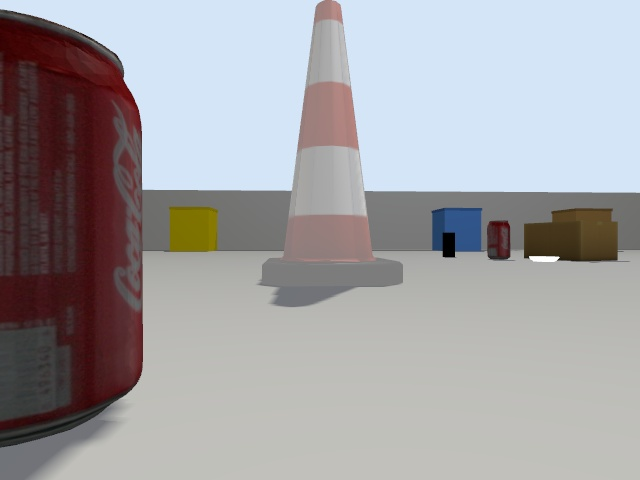bol: (530, 256, 559, 262)
bouteille_verre: (443, 232, 454, 257)
canette: (0, 10, 142, 446), (488, 222, 509, 257)
carton: (524, 209, 617, 260)
cone_chantier: (262, 0, 401, 286)
